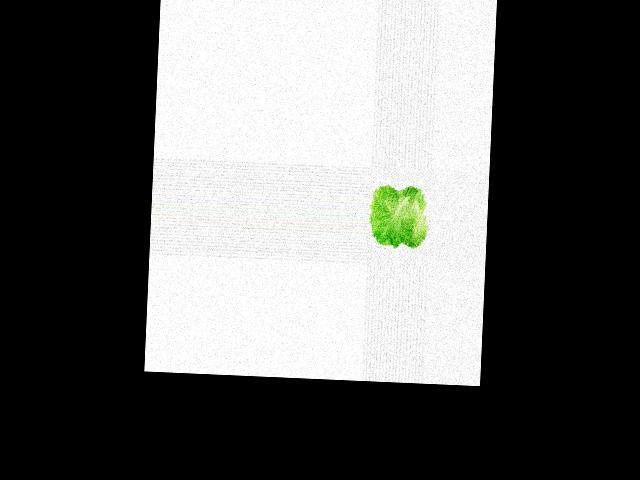lettuce: (366, 180, 431, 253)
